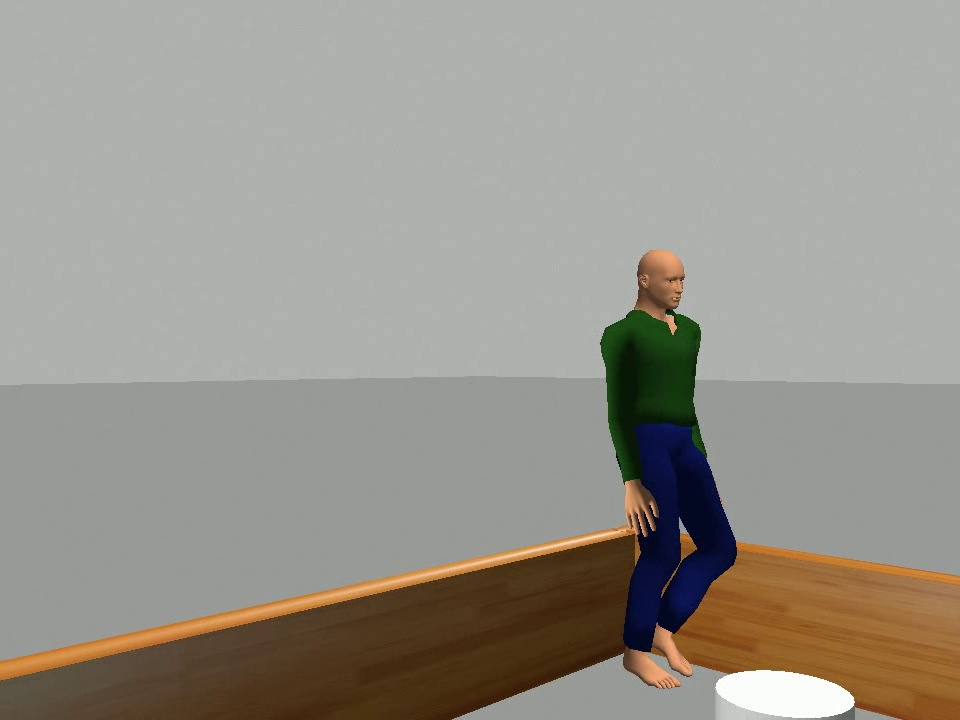person: (597, 246, 741, 692)
